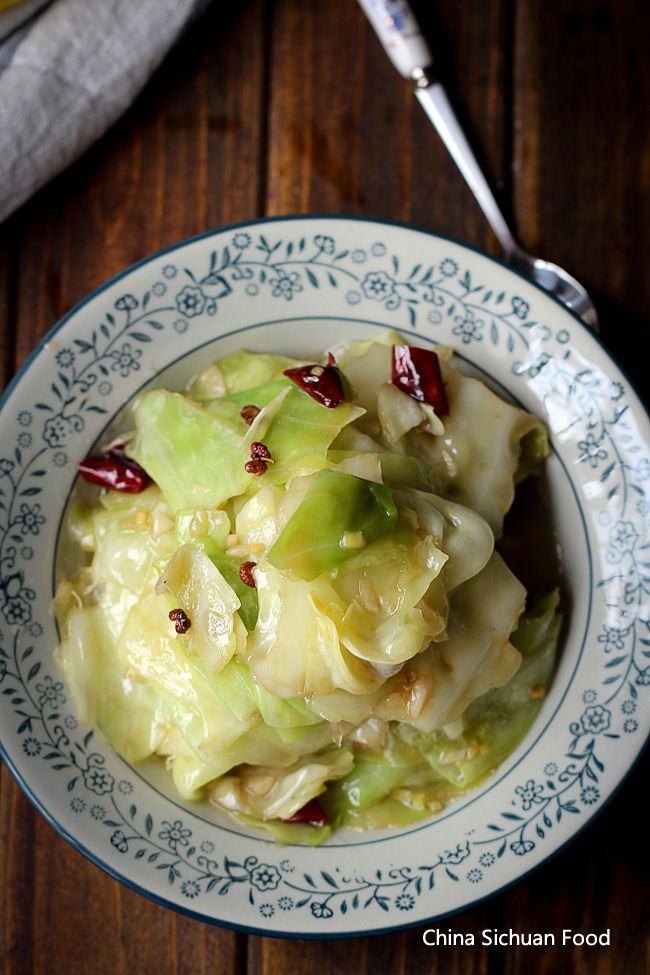chinese_cabbage: (128, 410, 553, 790), (248, 623, 502, 813), (333, 487, 586, 676), (105, 497, 376, 658), (155, 380, 439, 529), (83, 612, 311, 783)
